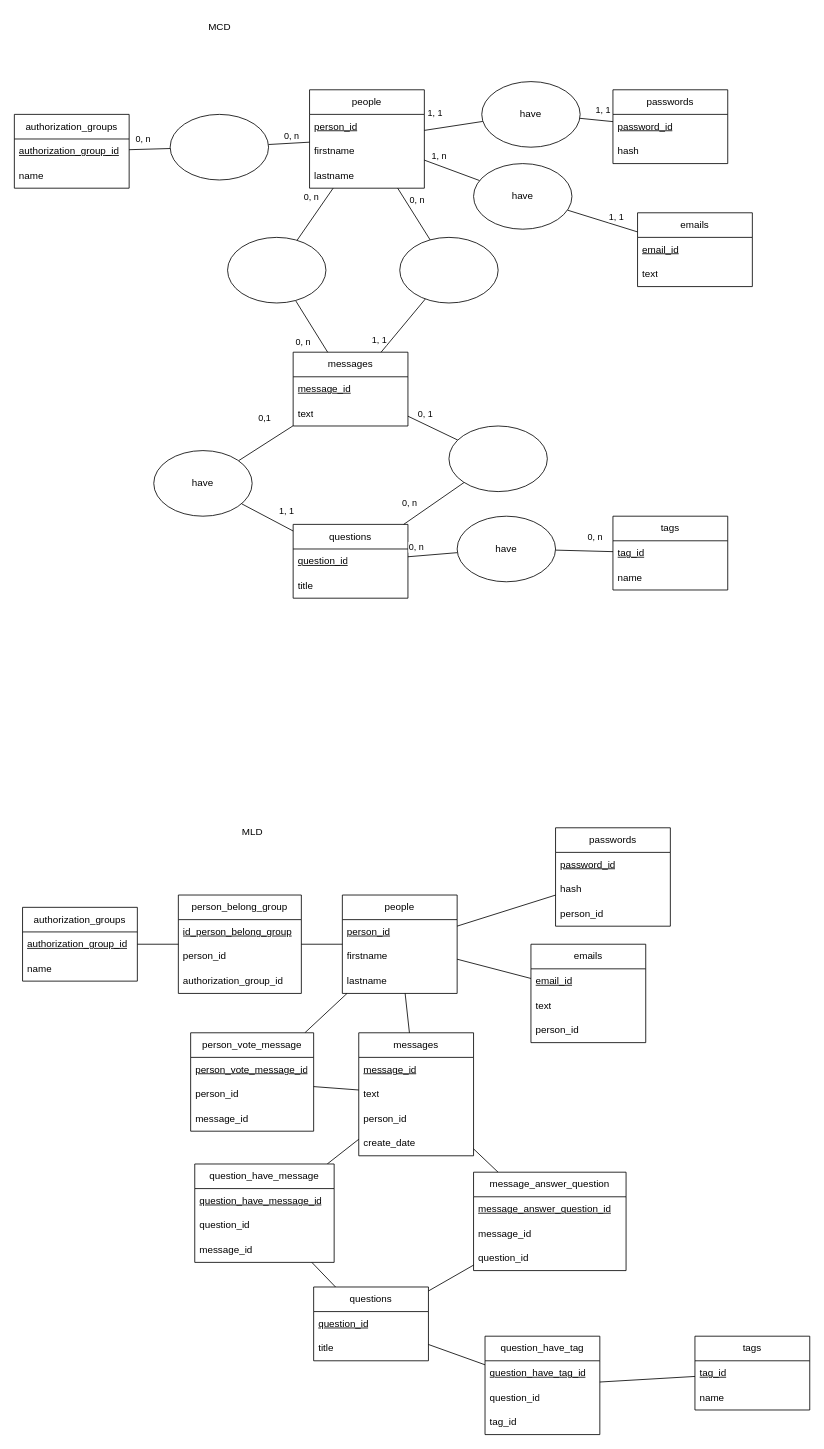
Some shapes in this 824 by 1449 pixel diagram are drawn without their labels. The shapes that lost their labels are listed below. From the top down, each one's box as (x1, y1, x2, y2) in pixels, then its label:
(169, 114, 269, 180): belong
(227, 237, 326, 303): vote
(399, 237, 498, 303): write ------------------------- create_date
(448, 425, 547, 492): answer
